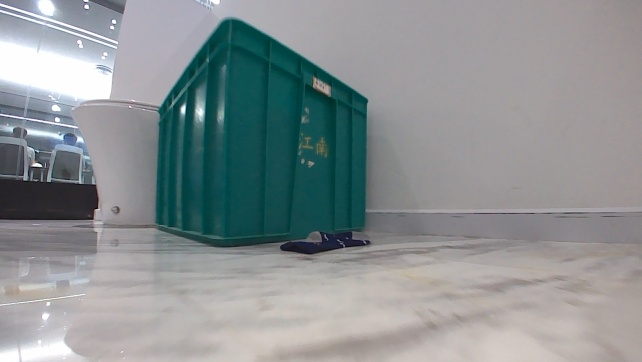socks: (277, 226, 373, 256)
toilet: (69, 95, 163, 228)
